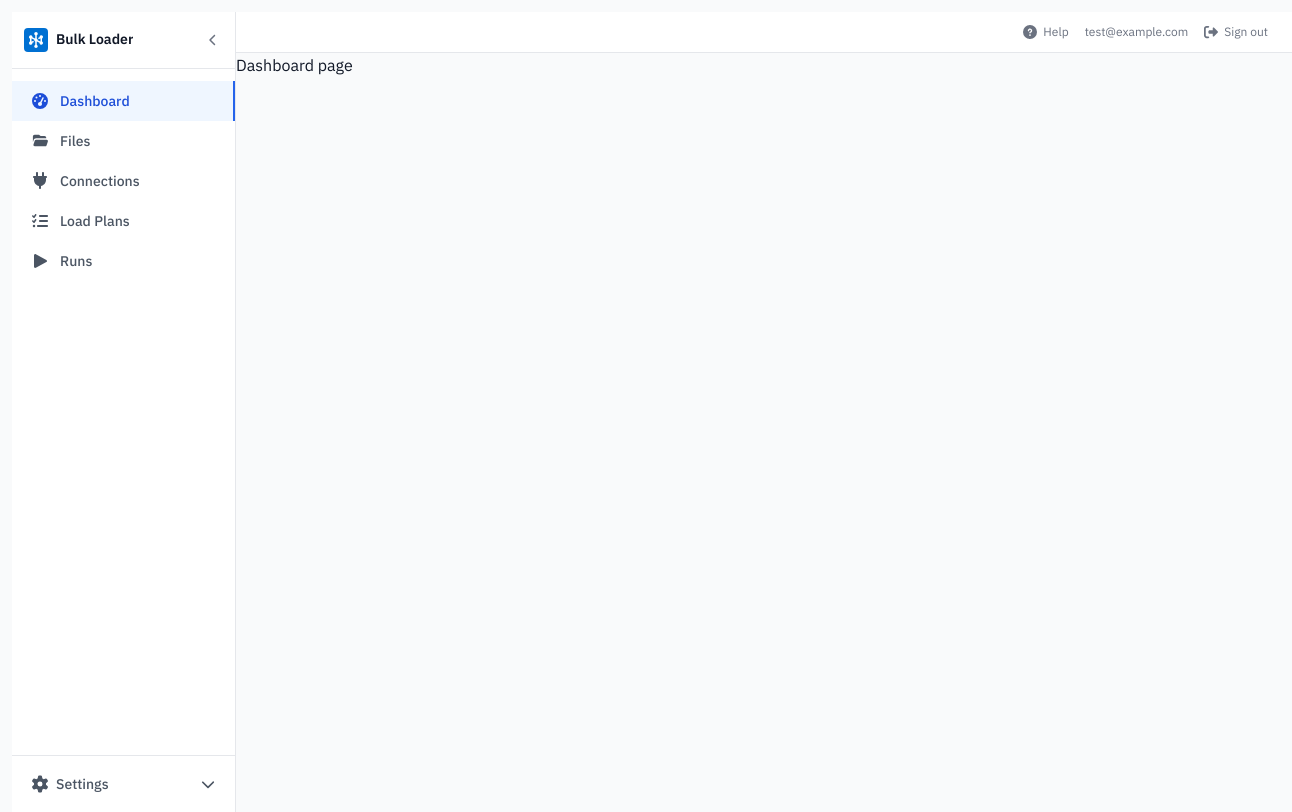
Scenario: AppShell › collapsible sidebar › hides nav labels and brand text when collapsed
Step 1. Click the button named "collapse sidebar" → {"x": 213, "y": 40}, box [203,30,223,50]
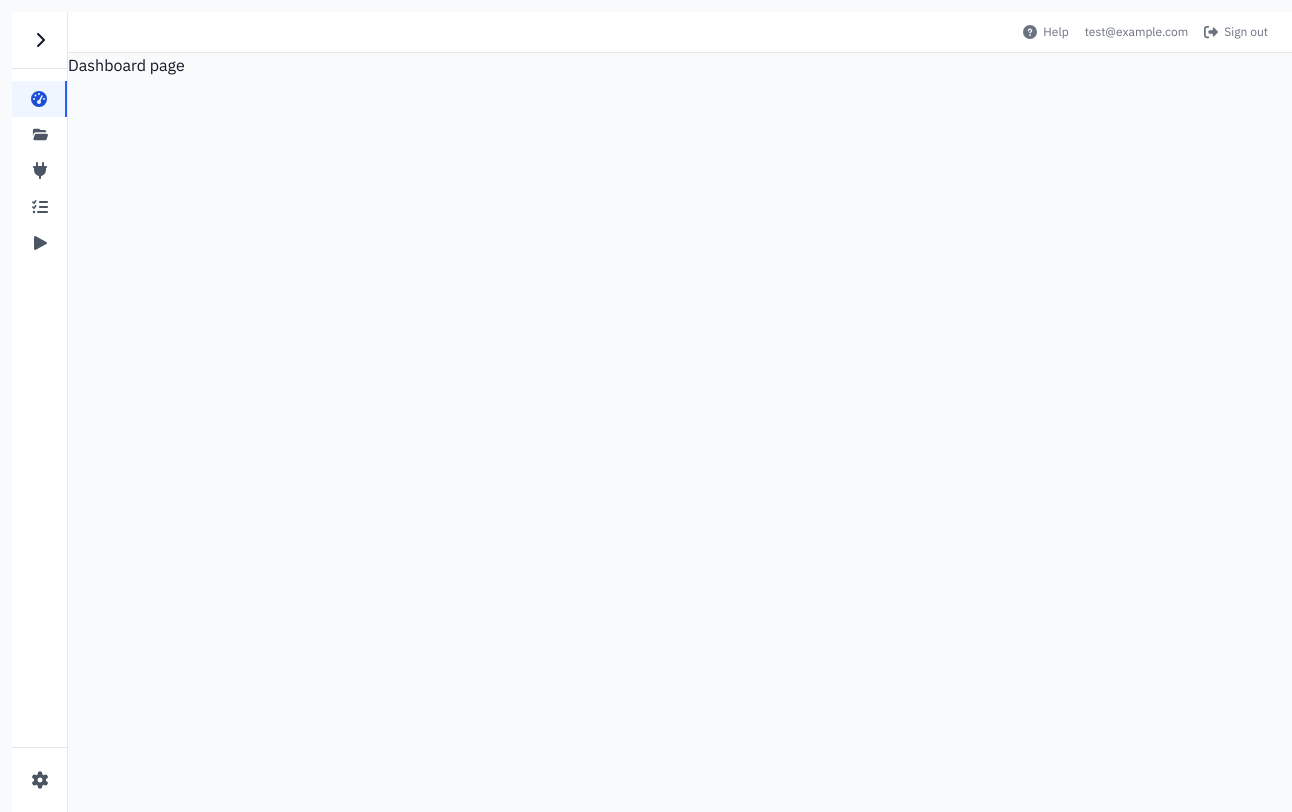
Expected: the text "Bulk Loader" is gone
Expected: the link "Connections" is gone
